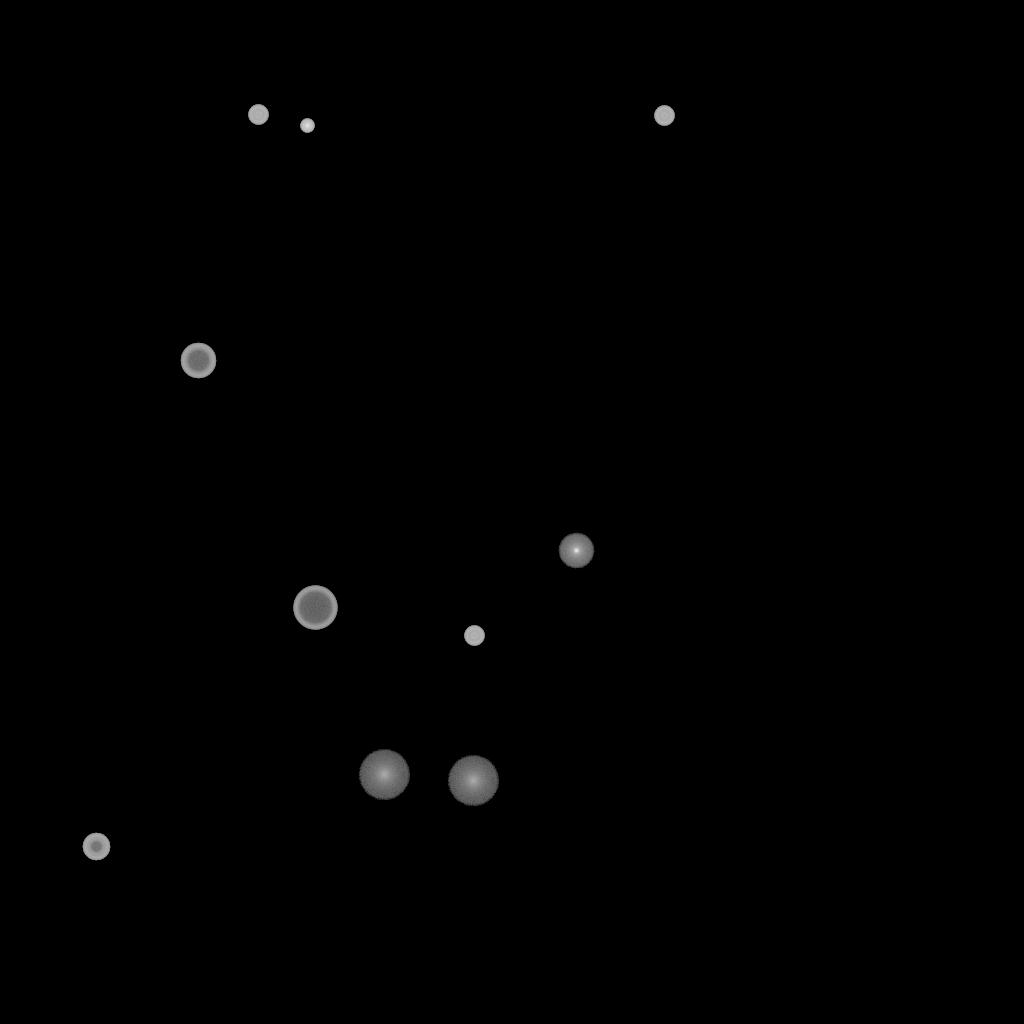depth:-30: (300, 119, 314, 133)
depth:-40: (248, 105, 268, 125), (464, 626, 484, 646), (654, 106, 674, 126)
depth:-50: (82, 833, 110, 861)
depth:-60: (180, 343, 216, 379)
depth:-70: (293, 586, 337, 630)
depth:0: (558, 533, 594, 569)
depth:20: (447, 756, 499, 806), (358, 750, 410, 800)
